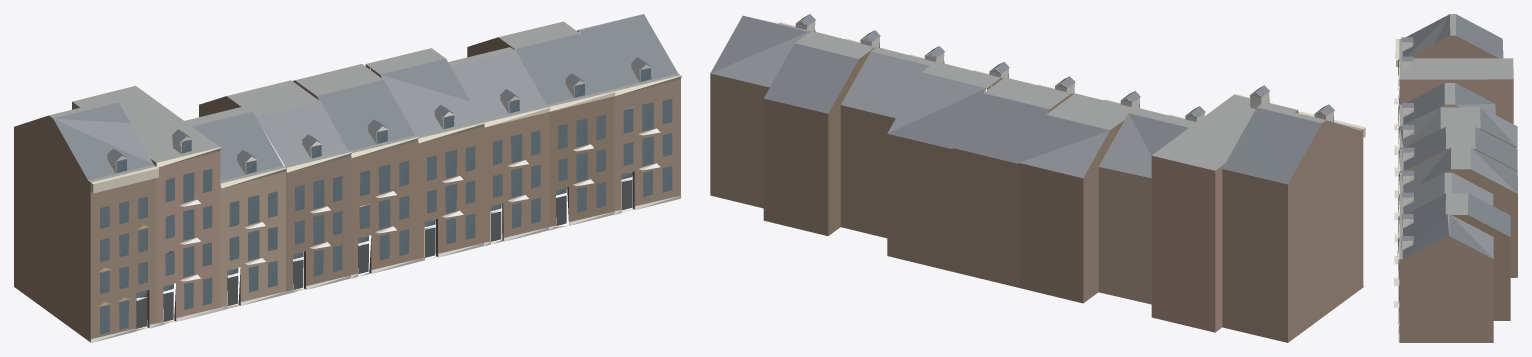
File: chunk-face-helmers-209-253-r1.lod2.glb
3 views of the same model, side by side, from view 1: azimuth 30°, elevation 25°; view 2: azimuth 150°, elevation 25°; view 3: azimuth 270°, elevation 25° (orthographic). The views are drawn at different scales.
Parts seen in each view (by area): view 1: lod2; view 2: lod2; view 3: lod2.
Boxes of the visible parts, x1,y1,x2,y2 form: lod2: (14, 14, 681, 342); lod2: (710, 14, 1365, 342); lod2: (1394, 14, 1517, 342).
Size of the model in its own units: 54.04 by 17.2 by 14.48.
